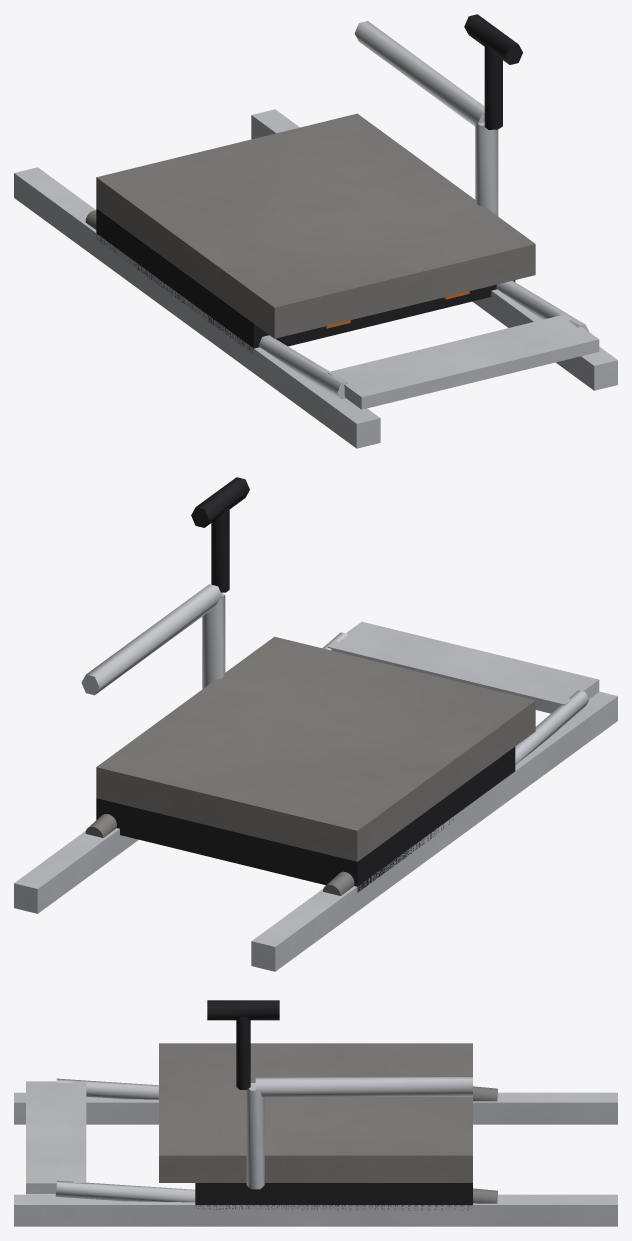
File: rover22_crew_seat_stowed.glb
3 views of the same model, one above another, from view 1: azimuth 30°, elevation 25°; view 2: azimuth 150°, elevation 25°; view 3: azimuth 270°, elevation 25° (orthographic). The views are drawn at different scales.
Visible parts, largest first — view 1: seat_back, base_rails, footrest, seat_pan, armrest, hand_controller; view 2: seat_back, base_rails, seat_pan, footrest, armrest, hand_controller, legs; view 3: seat_back, base_rails, footrest, seat_pan, armrest, hand_controller, legs.
Part boxes in pixels (x1,y1,x2,y2): seat_back: [96, 113, 535, 338]; base_rails: [14, 109, 617, 448]; footrest: [258, 280, 599, 409]; seat_pan: [96, 208, 515, 353]; armrest: [354, 21, 498, 216]; hand_controller: [464, 14, 522, 129]; seat_back: [96, 636, 535, 861]; base_rails: [14, 691, 617, 971]; seat_pan: [96, 747, 515, 892]; footrest: [322, 621, 599, 764]; armrest: [81, 584, 225, 695]; hand_controller: [191, 477, 249, 592]; legs: [85, 814, 354, 895]; seat_back: [159, 1043, 472, 1182]; base_rails: [14, 1092, 617, 1226]; footrest: [26, 1078, 195, 1202]; seat_pan: [195, 1183, 472, 1210]; armrest: [246, 1077, 472, 1189]; hand_controller: [207, 1000, 279, 1089]; legs: [473, 1086, 497, 1203].
Bounding box in the file's own units: 0.465 × 0.415 × 1.
5 materials, 3 textured.
